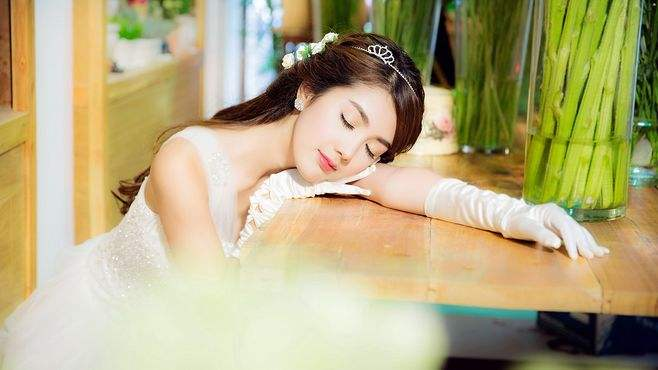person: (146, 26, 591, 293)
